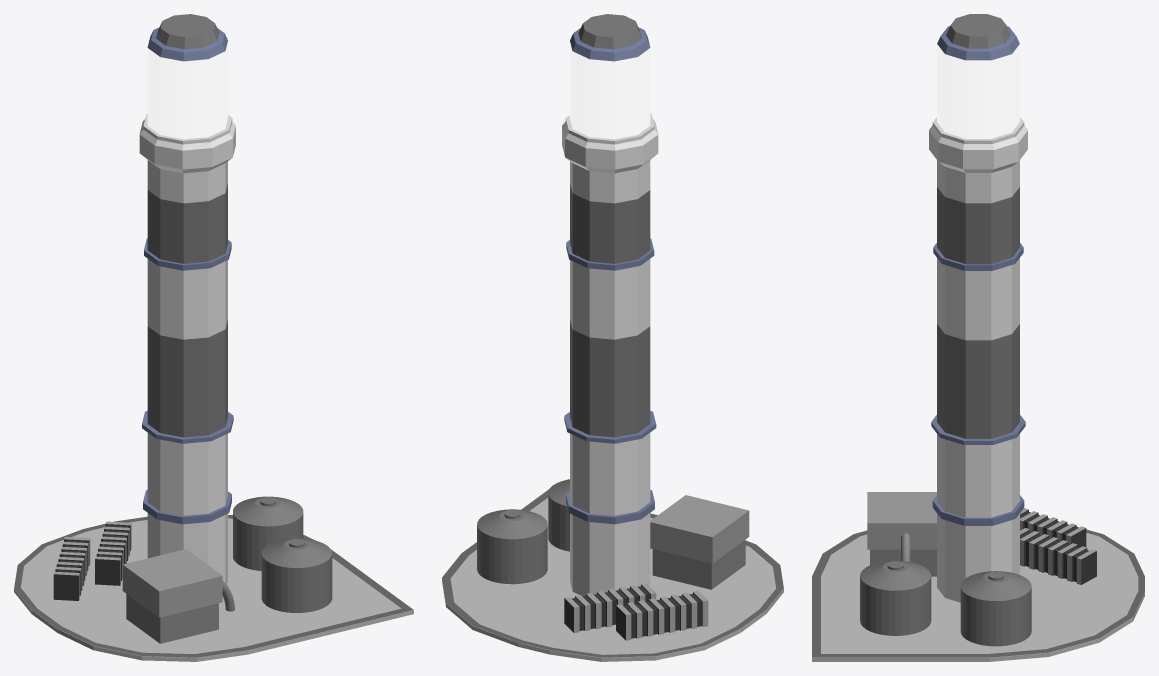
File: tower.glb
3 renders of one model, left to right at view 1: azimuth 30°, elevation 25°; view 2: azimuth 150°, elevation 25°; view 3: azimuth 270°, elevation 25°, orthographic.
Parts seen in each view (by area): view 1: Cylinder.001, Cylinder.011, Cube, Cylinder.006, Cylinder.002, Cylinder.005, Cube.002, Cylinder.004, Cylinder.003, Cylinder.009, Cylinder.008, Cylinder.007; view 2: Cylinder.001, Cylinder.011, Cube, Cylinder.006, Cylinder.002, Cylinder.005, Cube.002, Cylinder.004, Cylinder.003, Cylinder.009, Cylinder.008, Cylinder.007; view 3: Cylinder.001, Cylinder.011, Cube, Cylinder.006, Cylinder.002, Cylinder.005, Cube.002, Cylinder.004, Cylinder.003, Cylinder.009, Cylinder.008, Cylinder.007.
Part boxes in pixels (box(x1,y1,x2,y2)): Cylinder.001: box(139, 113, 235, 584); Cylinder.011: box(53, 496, 332, 643); Cube: box(14, 518, 413, 661); Cylinder.006: box(147, 320, 227, 437); Cylinder.002: box(147, 42, 227, 139); Cylinder.005: box(147, 184, 227, 263); Cube.002: box(14, 515, 413, 657); Cylinder.004: box(156, 14, 219, 49); Cylinder.003: box(147, 27, 227, 61); Cylinder.009: box(143, 490, 231, 524); Cylinder.008: box(142, 410, 233, 443); Cylinder.007: box(144, 238, 231, 270); Cylinder.001: box(562, 113, 658, 596); Cylinder.011: box(477, 479, 749, 640); Cube: box(442, 498, 783, 661); Cylinder.006: box(570, 320, 650, 437); Cylinder.002: box(570, 42, 650, 139); Cylinder.005: box(570, 184, 650, 263); Cube.002: box(442, 489, 783, 657); Cylinder.004: box(578, 14, 641, 49); Cylinder.003: box(570, 27, 650, 61); Cylinder.009: box(566, 490, 654, 524); Cylinder.008: box(564, 410, 656, 443); Cylinder.007: box(566, 238, 654, 270); Cylinder.001: box(929, 117, 1027, 602); Cylinder.011: box(860, 492, 1096, 646); Cube: box(812, 533, 1144, 661); Cylinder.006: box(937, 324, 1019, 438); Cylinder.002: box(937, 44, 1019, 138); Cylinder.005: box(937, 187, 1019, 264); Cube.002: box(812, 524, 1144, 657); Cylinder.004: box(946, 14, 1010, 48); Cylinder.003: box(937, 26, 1019, 60); Cylinder.009: box(932, 495, 1024, 525); Cylinder.008: box(931, 415, 1025, 444); Cylinder.007: box(933, 243, 1023, 270).
Bounding box in the file's own units: 32.15 × 60.33 × 32.15.
